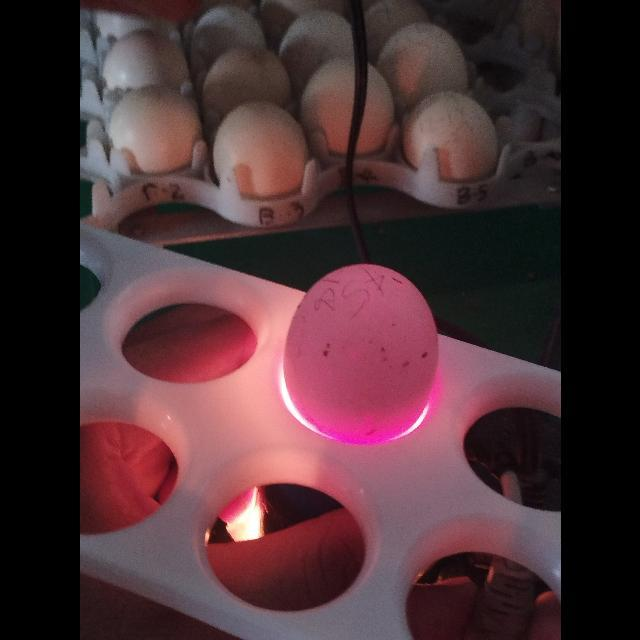Fertile: (278, 262, 440, 448)
